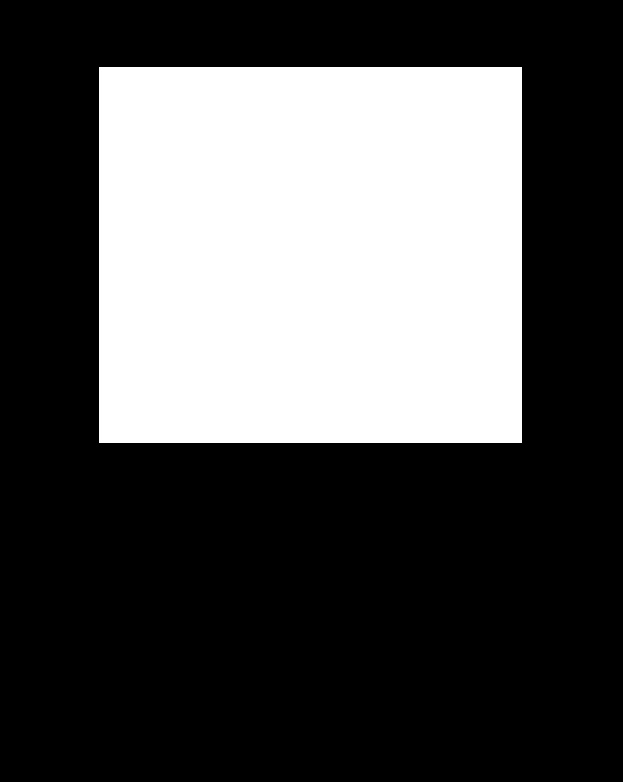table: (99, 67, 521, 442)
